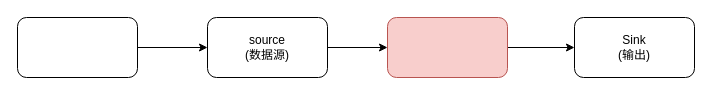
This 712x95 diagram has some shape labels left out. The centre of each missing label's shape, as x and y in pixels:
"Environment (执行环境)" goes at point 77,47.
"Transformation (转换操作)" goes at point 447,47.
